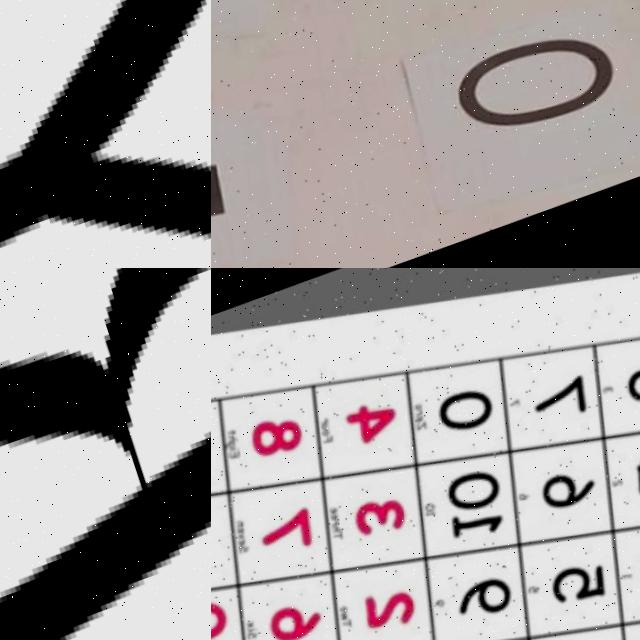0: (432, 0, 640, 174), (429, 374, 508, 445), (437, 454, 514, 521), (211, 582, 242, 640)
1: (441, 495, 514, 554)
2: (352, 571, 429, 640), (622, 443, 640, 513)
3: (343, 486, 416, 550), (616, 351, 640, 416)
4: (332, 382, 414, 460)
5: (541, 548, 622, 621)
6: (533, 458, 608, 525), (259, 586, 337, 640)
7: (250, 492, 329, 569), (524, 364, 603, 434), (211, 130, 250, 260)
8: (239, 401, 318, 474)
9: (447, 563, 526, 632)
R: (0, 268, 211, 640)
Y: (0, 0, 211, 268)
